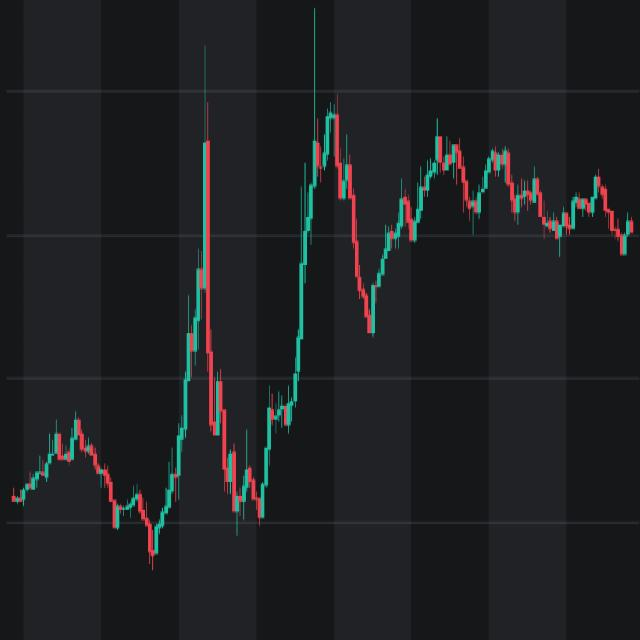Double-Bottom: (215, 366, 288, 539)
Head-Shoulders: (296, 77, 368, 339)
Resistance-breakout: (29, 101, 212, 573)
